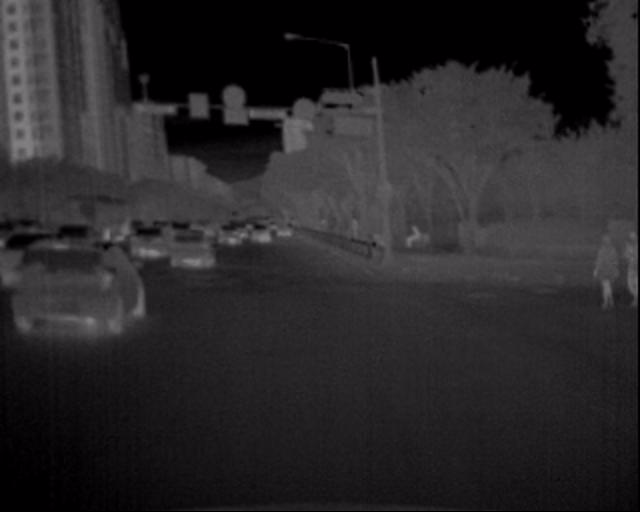person: (592, 233, 630, 310)
